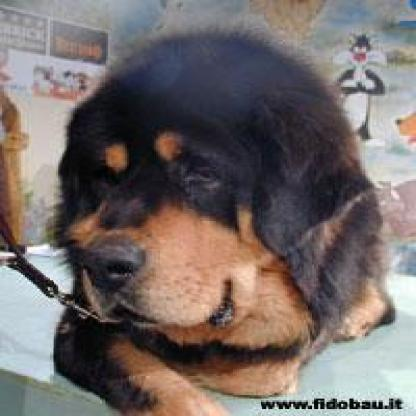Tibetan_mastiff: (0, 26, 408, 409)
